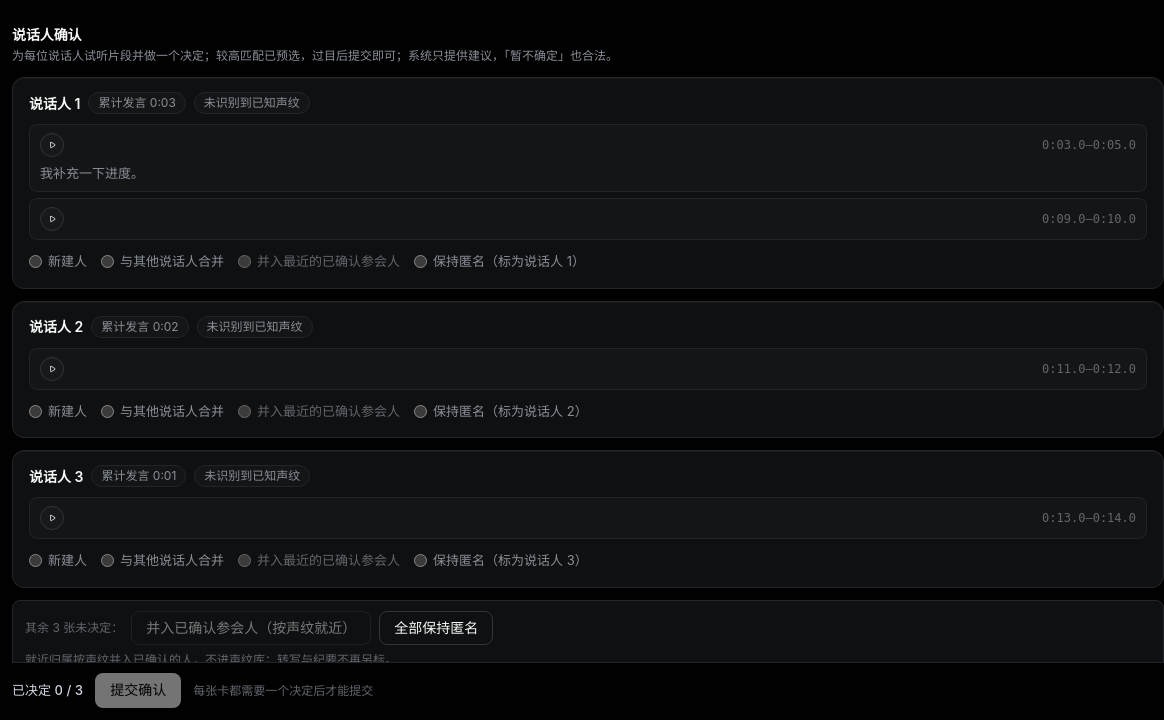
Test: 说话人确认页固定提交栏 › 本场没有任何已确认者时，「并入最近的已确认参会人」不可选，批量按钮也禁用
The width and height of the screenshot is (1164, 720).
Check: the button "并入已确认参会人（按声纹就近）" is disabled, box [131,611,371,645]
给 S2 起个名字后，其他卡的就近归属就有锚点了
Step 1. Click the radio button labelled "新建人" in the row of "保持匿名（标为说话人 1）" → click(36, 262), box [29,255,42,268]
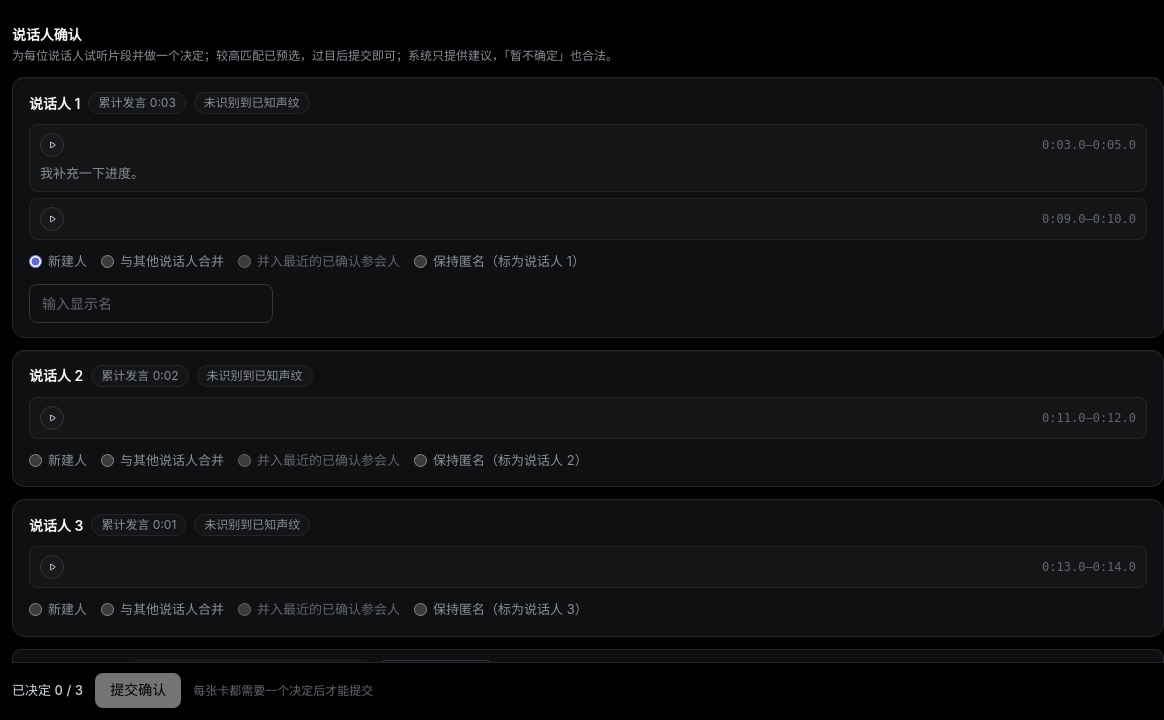
Step 2. Type "王芳" into the field with placeholder "输入显示名" → (151, 303), box [29,284,273,323]
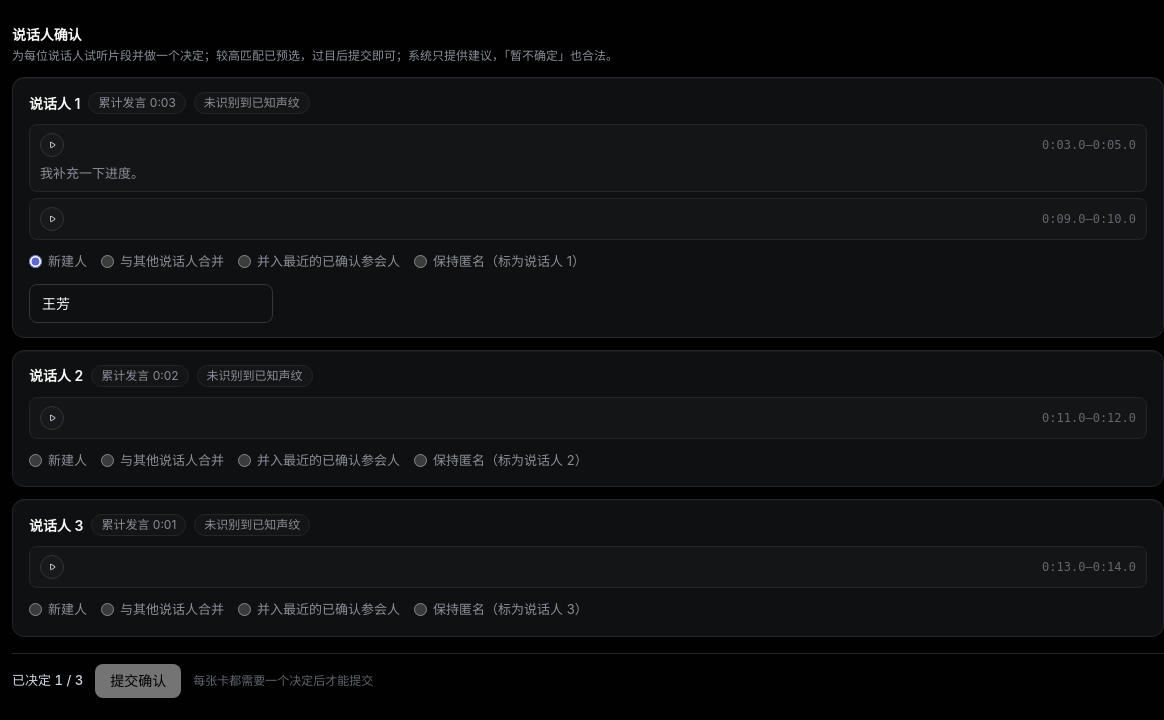
Check: the text "张未决定：" is gone
